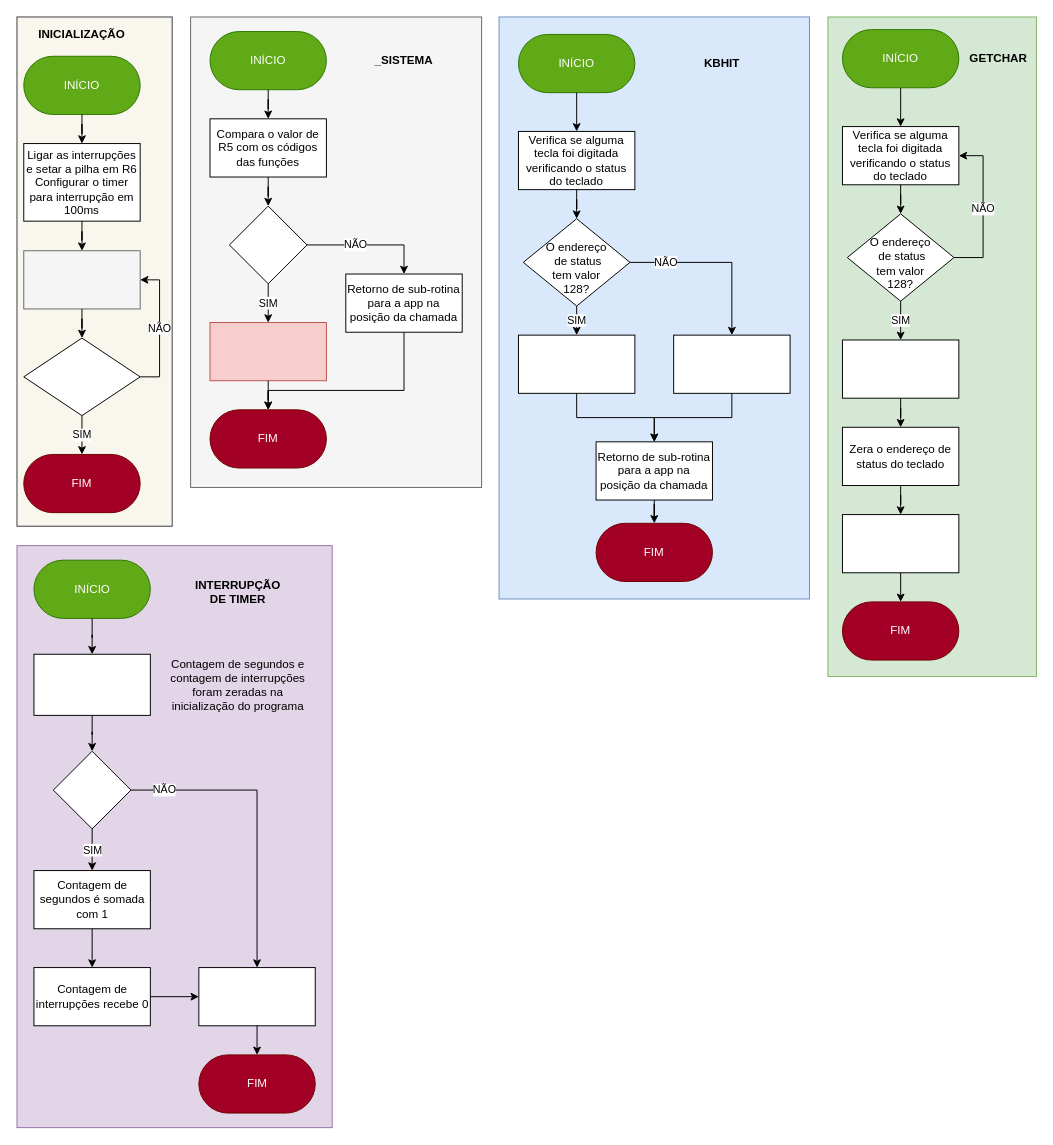
Some shapes in this 1053 by 1145 pixel diagram are drawn without their labels. The centre of each missing label's shape, as x and y in pixels:
"App terminou de executar?" goes at (81,376).
"Chegou a 10?" goes at (91,789).
"Coloca o valor 0 em R0" goes at (731,363).
"Coloca o valor do dado do teclado em R0" goes at (900,368).
"Coloca qualquer valor em R0" goes at (576,363).
"Contagem de interrupções é somada com 1" goes at (91,684).
"Pula para o endereço da função correspondente" goes at (267,351).
"Receber e executar as funções chamadas em R5" goes at (81,279).
"Retorno de interrupção" goes at (256,996).
"Retorno de sub-rotina para a app na posição de chamada" goes at (900,543).
"É um código válido?" goes at (267,244).
